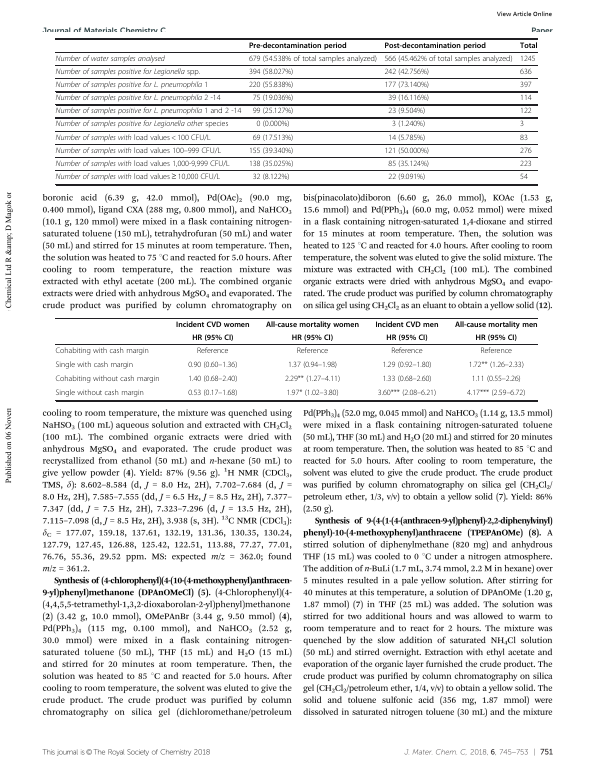borderless: (55, 37, 537, 184), (54, 316, 537, 400)
cell: (55, 159, 231, 169), (55, 107, 242, 116), (55, 146, 222, 156), (55, 93, 221, 103), (55, 172, 221, 182), (55, 120, 229, 129), (55, 80, 209, 90), (55, 67, 201, 77), (55, 133, 211, 142), (248, 54, 378, 64), (383, 54, 513, 64), (55, 54, 166, 64), (54, 374, 160, 384), (54, 346, 150, 356), (383, 41, 487, 50), (55, 388, 145, 398), (248, 41, 347, 50), (265, 320, 360, 329), (54, 360, 134, 370), (454, 320, 538, 329), (175, 320, 250, 329), (377, 388, 437, 398), (466, 388, 526, 398), (374, 320, 439, 329), (468, 360, 525, 370), (284, 374, 341, 384), (285, 388, 339, 398), (187, 360, 238, 370), (287, 360, 338, 370), (381, 360, 432, 370), (187, 374, 238, 384), (381, 374, 432, 384), (471, 374, 522, 384), (187, 388, 238, 398), (383, 67, 430, 77), (383, 80, 430, 90), (383, 146, 430, 156), (248, 67, 294, 77), (248, 80, 294, 90), (248, 146, 294, 156), (248, 159, 294, 169), (387, 93, 430, 103), (387, 159, 430, 169), (191, 333, 234, 343), (291, 333, 334, 343), (385, 333, 428, 343), (475, 333, 518, 343), (252, 93, 294, 103), (387, 172, 426, 182), (252, 172, 290, 182), (252, 107, 294, 116), (252, 133, 294, 142), (387, 107, 426, 116), (387, 133, 426, 142), (390, 346, 424, 356), (479, 346, 513, 356), (196, 346, 229, 356), (296, 346, 329, 356), (255, 120, 290, 129), (391, 120, 426, 129), (519, 41, 538, 50), (519, 54, 536, 64), (519, 67, 533, 77), (519, 80, 533, 90), (519, 93, 533, 103), (519, 146, 533, 156), (519, 159, 533, 169), (519, 107, 533, 116), (519, 172, 529, 182), (519, 133, 529, 142), (519, 120, 525, 129)
